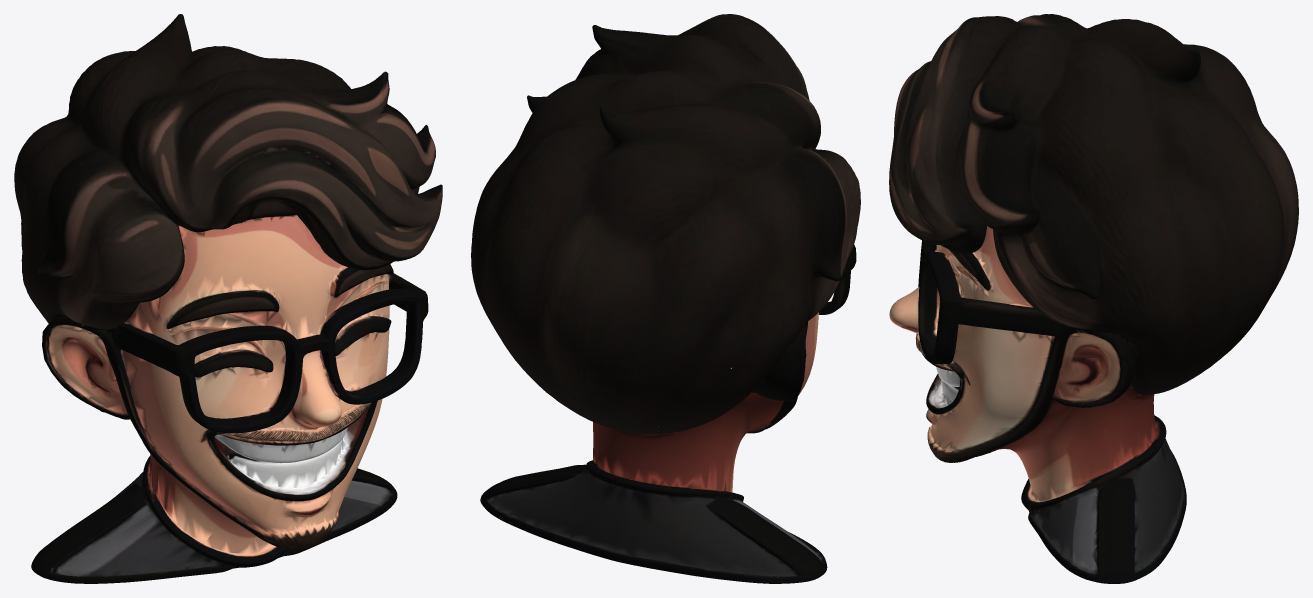
Rendered from mx-rosto.glb.
The picture shows the model from 3 angles, left to right: view 1: azimuth 30°, elevation 25°; view 2: azimuth 150°, elevation 25°; view 3: azimuth 270°, elevation 25°; orthographic projection. The views are drawn at different scales.
Visible parts, largest first — view 1: tripo_node_d8a35a69-b67a-4617-b202-aba386143e20; view 2: tripo_node_d8a35a69-b67a-4617-b202-aba386143e20; view 3: tripo_node_d8a35a69-b67a-4617-b202-aba386143e20.
Part boxes in pixels (left/top/right/bottom): tripo_node_d8a35a69-b67a-4617-b202-aba386143e20: left=14, top=14, right=442, bottom=583; tripo_node_d8a35a69-b67a-4617-b202-aba386143e20: left=471, top=14, right=860, bottom=583; tripo_node_d8a35a69-b67a-4617-b202-aba386143e20: left=889, top=14, right=1298, bottom=583.
Size of the model in its own units: 0.7784 by 0.9804 by 0.7745.
1 material, 1 textured.
